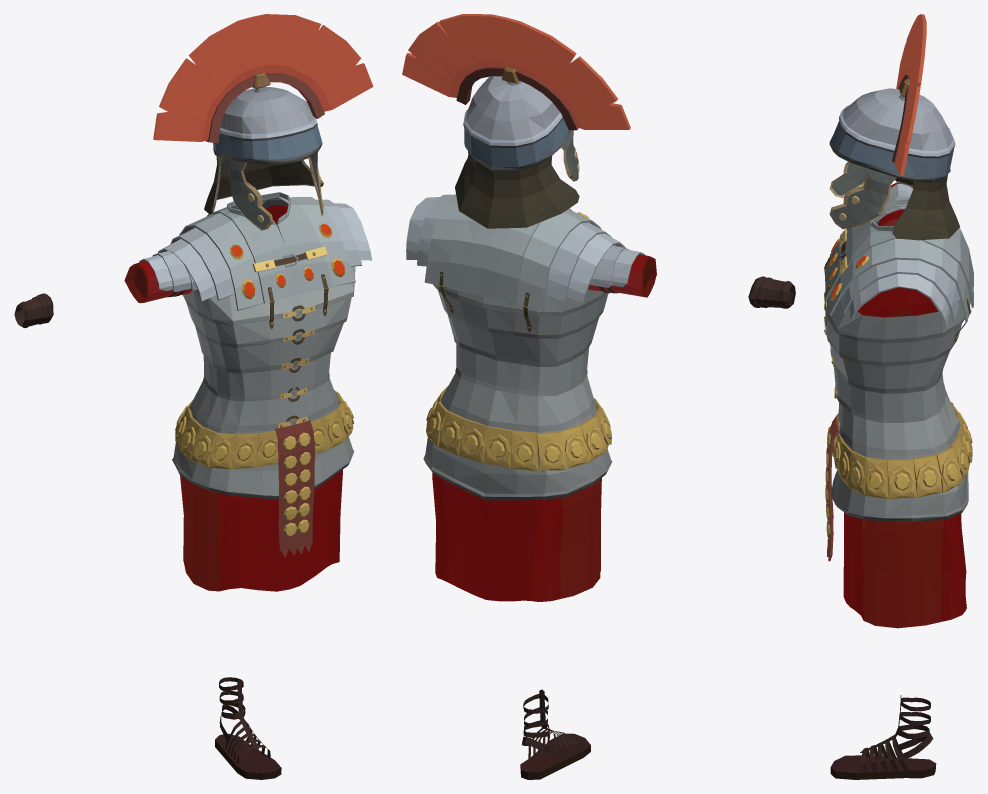
The model's file is romanArmorFemale.glb.
3 views of the same model, side by side, from view 1: azimuth 30°, elevation 25°; view 2: azimuth 150°, elevation 25°; view 3: azimuth 270°, elevation 25° (orthographic). The views are drawn at different scales.
Visible parts, largest first — view 1: romanArmor, romanGeneralHelmet, romanClothFootSoldier, romanArmorBelt, romanSandleManFootLeg, romanArmor.001, romanLowerArm, romanArmorClip; view 2: romanArmor, romanGeneralHelmet, romanClothFootSoldier, romanArmorBelt, romanArmor.001, romanSandleManFootLeg, romanLowerArm; view 3: romanArmor, romanGeneralHelmet, romanClothFootSoldier, romanArmorBelt, romanSandleManFootLeg, romanSandleManLowerLeg, romanArmor.001.
Part boxes in pixels (x1=…): romanArmor: x1=157, y1=192, x2=371, y2=499; romanGeneralHelmet: x1=153, y1=14, x2=373, y2=230; romanClothFootSoldier: x1=180, y1=205, x2=342, y2=591; romanArmorBelt: x1=175, y1=391, x2=354, y2=557; romanSandleManFootLeg: x1=215, y1=703, x2=281, y2=779; romanArmor.001: x1=124, y1=250, x2=197, y2=303; romanLowerArm: x1=14, y1=293, x2=53, y2=327; romanArmorClip: x1=252, y1=246, x2=327, y2=272; romanArmor: x1=406, y1=194, x2=625, y2=500; romanGeneralHelmet: x1=402, y1=14, x2=630, y2=228; romanClothFootSoldier: x1=432, y1=473, x2=601, y2=601; romanArmorBelt: x1=426, y1=385, x2=612, y2=471; romanArmor.001: x1=588, y1=244, x2=656, y2=297; romanSandleManFootLeg: x1=520, y1=720, x2=590, y2=779; romanLowerArm: x1=748, y1=276, x2=795, y2=308; romanArmor: x1=824, y1=195, x2=973, y2=521; romanGeneralHelmet: x1=829, y1=14, x2=959, y2=240; romanClothFootSoldier: x1=843, y1=210, x2=966, y2=628; romanArmorBelt: x1=825, y1=402, x2=972, y2=561; romanSandleManFootLeg: x1=830, y1=724, x2=936, y2=779; romanSandleManLowerLeg: x1=898, y1=695, x2=930, y2=727; romanArmor.001: x1=874, y1=182, x2=913, y2=226.
Size of the model in its own units: 1.12 by 2.12 by 0.3798.
